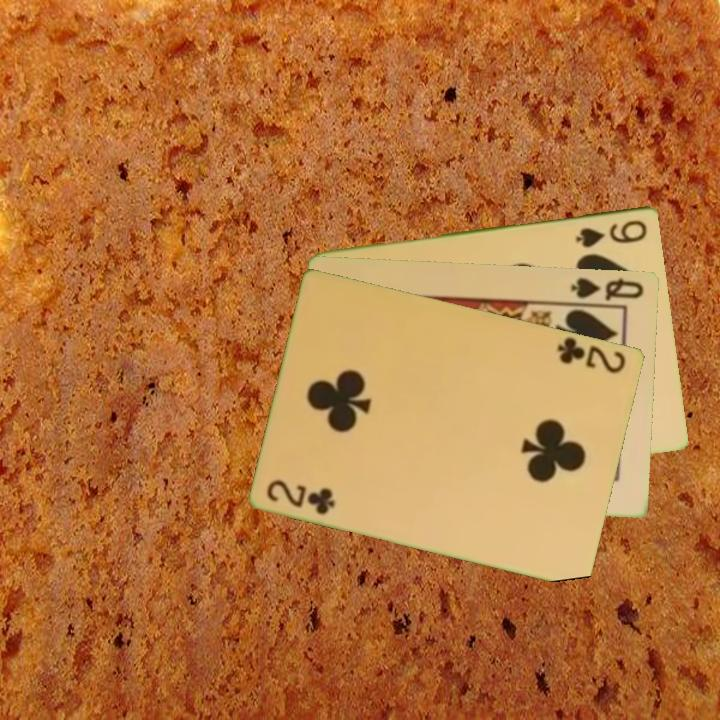2c: (554, 333, 629, 376), (263, 476, 339, 517)
9s: (572, 216, 651, 250)
Qs: (567, 273, 647, 303)
